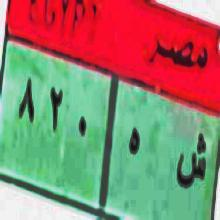0: (74, 106, 96, 150)
2: (48, 84, 66, 134)
8: (16, 77, 38, 127)
haa: (124, 127, 146, 165)
sheen: (175, 128, 210, 200)
